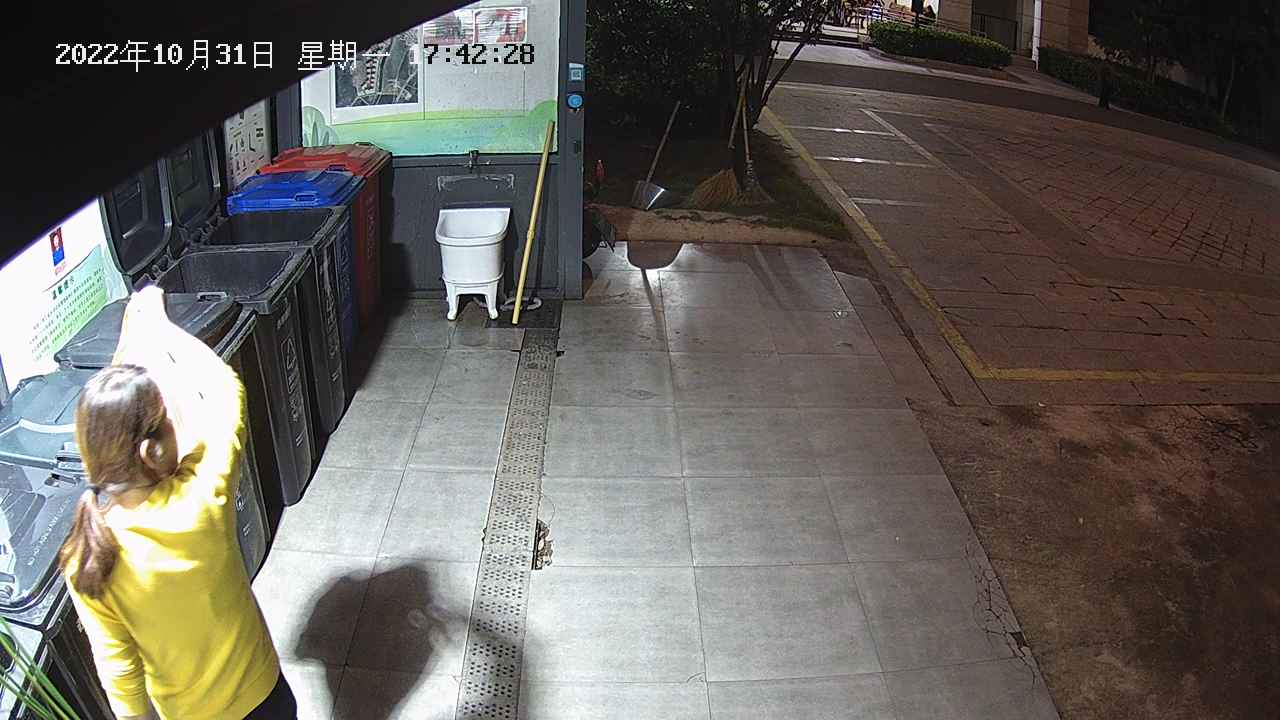person: (55, 282, 302, 720)
